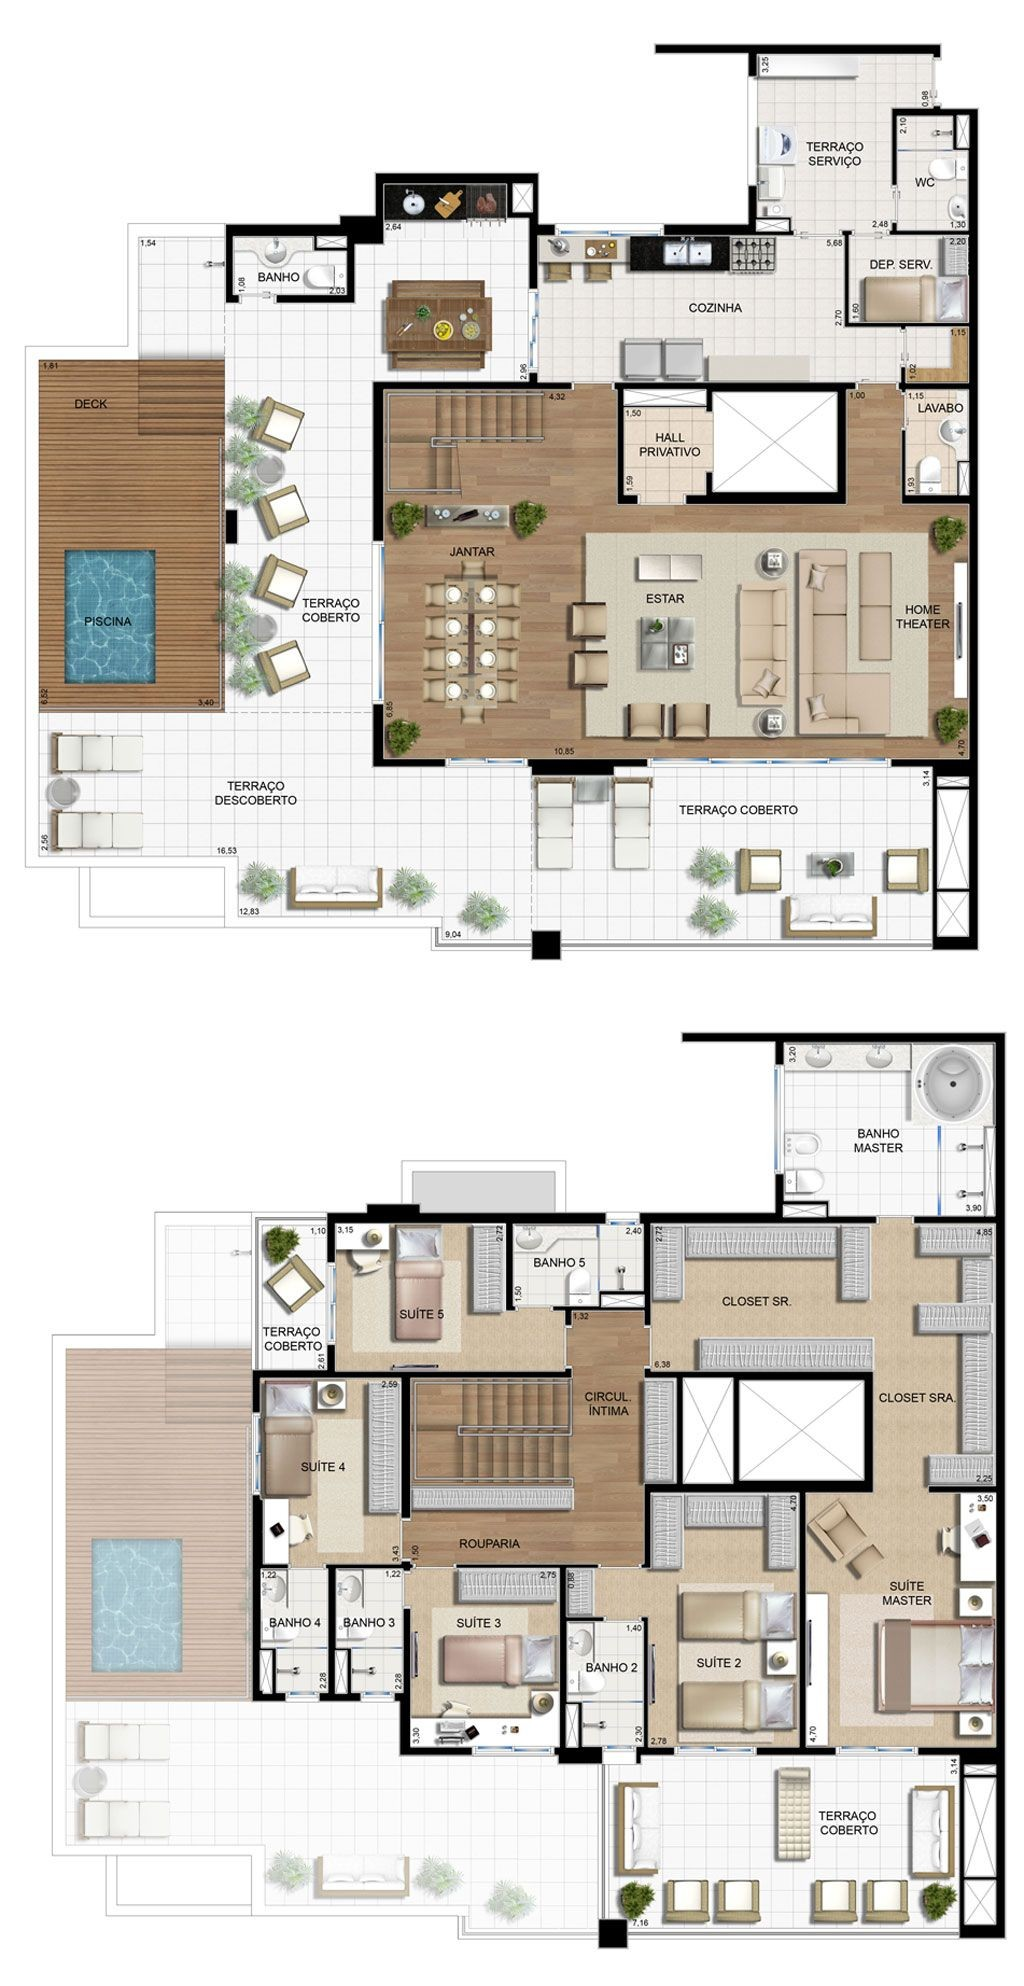room: (799, 1485, 1006, 1754), (644, 1485, 807, 1755), (253, 1368, 410, 1569), (327, 1212, 515, 1378), (404, 1566, 566, 1756), (251, 1566, 408, 1701)
